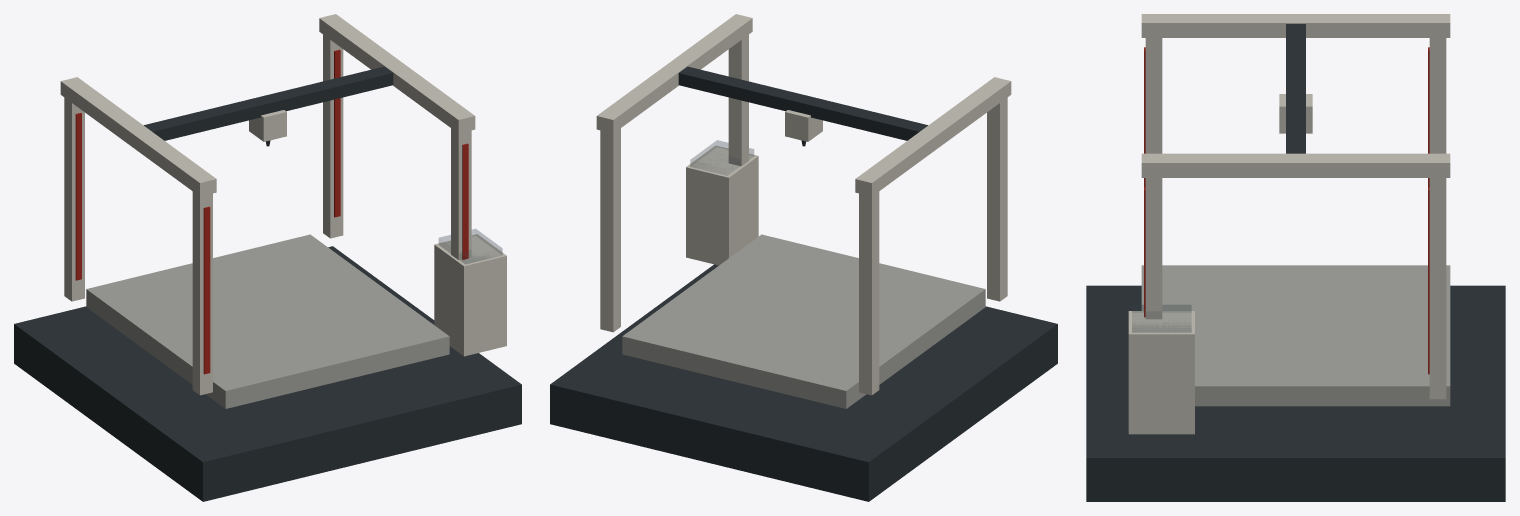
The picture shows the model from 3 angles, left to right: view 1: azimuth 30°, elevation 25°; view 2: azimuth 150°, elevation 25°; view 3: azimuth 270°, elevation 25°; orthographic projection. The views are drawn at different scales.
Visible parts, largest first — view 1: equipment-printer-painted, printer-gantry-painted, equipment-printer-glazing, printer-head-painted; view 2: equipment-printer-painted, printer-gantry-painted, equipment-printer-glazing, printer-head-painted; view 3: equipment-printer-painted, printer-gantry-painted, equipment-printer-glazing, printer-head-painted.
Boxes of the visible parts, x1=… form: equipment-printer-painted: x1=14, y1=14, x2=521, y2=501; printer-gantry-painted: x1=144, y1=66, x2=393, y2=140; equipment-printer-glazing: x1=439, y1=229, x2=502, y2=263; printer-head-painted: x1=249, y1=110, x2=286, y2=146; equipment-printer-painted: x1=550, y1=14, x2=1057, y2=501; printer-gantry-painted: x1=678, y1=66, x2=927, y2=140; equipment-printer-glazing: x1=690, y1=140, x2=753, y2=175; printer-head-painted: x1=785, y1=110, x2=822, y2=146; equipment-printer-painted: x1=1086, y1=14, x2=1505, y2=501; printer-gantry-painted: x1=1286, y1=24, x2=1305, y2=153; equipment-printer-glazing: x1=1132, y1=305, x2=1191, y2=332; printer-head-painted: x1=1279, y1=94, x2=1312, y2=133.
Bounding box in the file's own units: 19.74 × 17.24 × 20.
